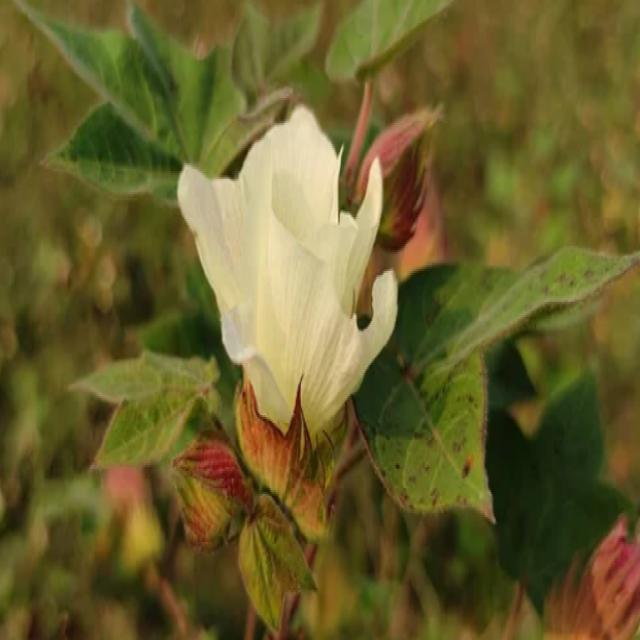Cotton Blossom: (173, 98, 404, 509)
Early Boll: (163, 434, 259, 558)
